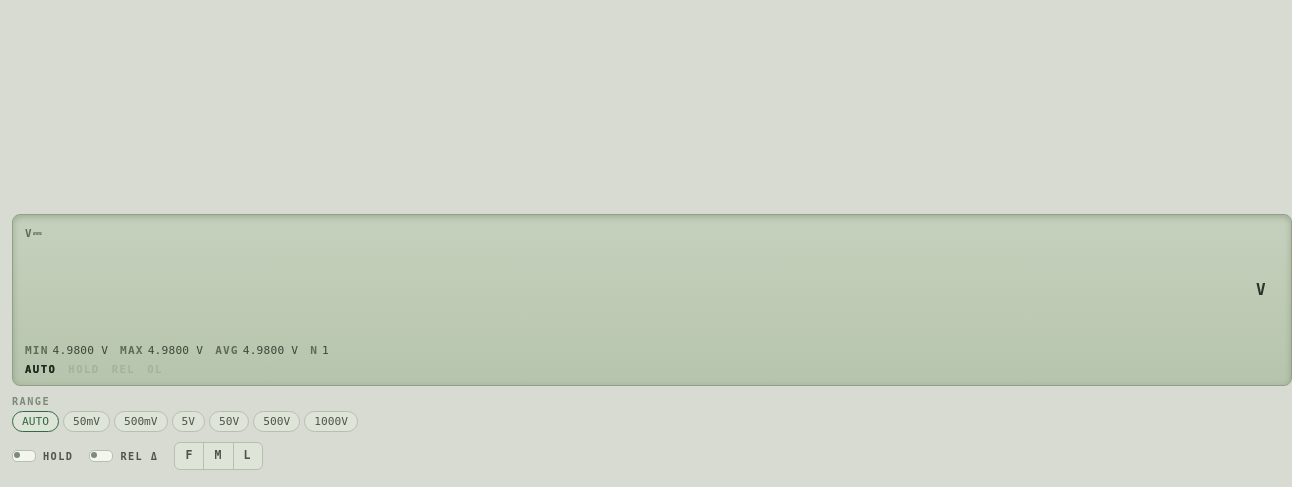
it: recordable readings › DMM: the main reading is recordable with the unit of the active function
Right-click the element named "XDM · MEAS" at (652, 263), box x1=25 y1=225 x2=1279 y2=301
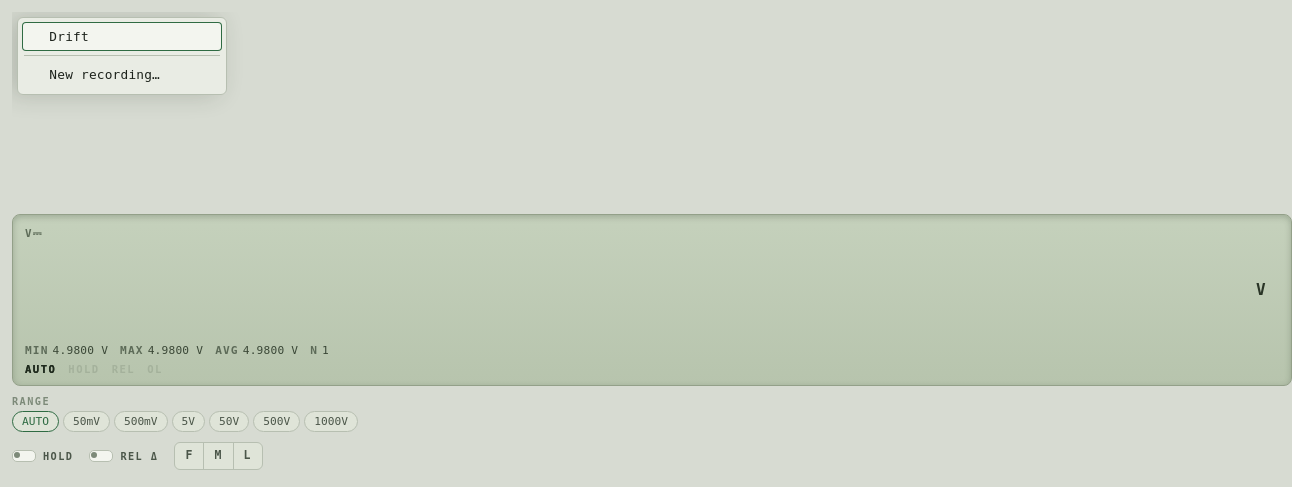
Expected: the menu item "Drift" is shown
Click the menu item "Drift" at (122, 37), box x1=22 y1=22 x2=222 y2=51
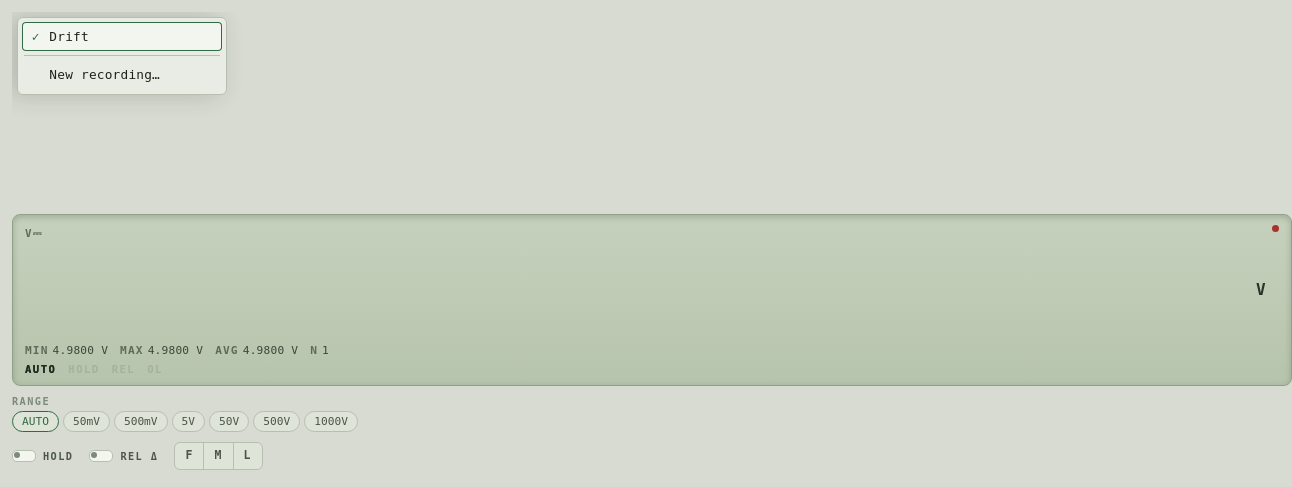
Expected: the picture named "Recorded in Drift" is shown, x1=1272 y1=225 x2=1279 y2=232
